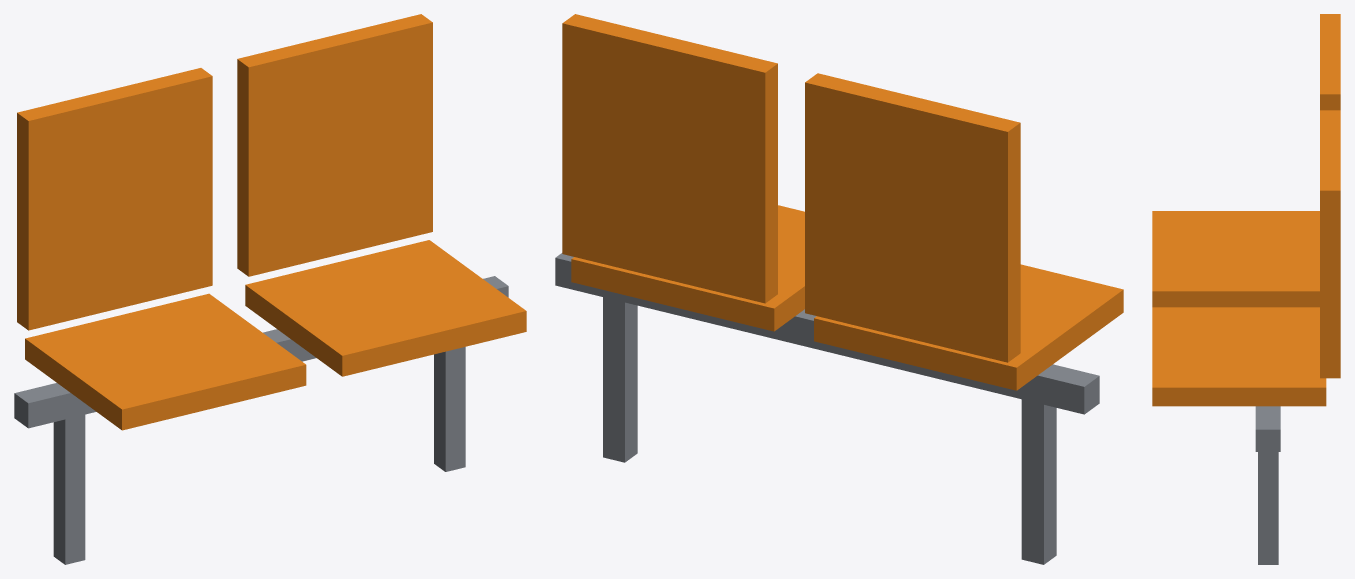
The model's file is PoolSeats.fbx.
3 renders of one model, left to right at view 1: azimuth 30°, elevation 25°; view 2: azimuth 150°, elevation 25°; view 3: azimuth 270°, elevation 25°, orthographic. The views are drawn at different scales.
Visible parts, largest first — view 1: seat_back_0, seat_back_1, seat_0, seat_1, seat_leg, seat_leg.001, seat_beam; view 2: seat_back_0, seat_back_1, seat_0, seat_1, seat_beam, seat_leg, seat_leg.001; view 3: seat_1, seat_0, seat_back_1, seat_leg.001, seat_back_0, seat_beam.
Boxes of the visible parts, bbox=[...] form: seat_back_0: bbox=[17, 68, 212, 330]; seat_back_1: bbox=[237, 14, 432, 276]; seat_0: bbox=[25, 293, 306, 430]; seat_1: bbox=[245, 240, 526, 376]; seat_leg: bbox=[53, 414, 85, 564]; seat_leg.001: bbox=[434, 347, 465, 471]; seat_beam: bbox=[14, 276, 508, 428]; seat_back_0: bbox=[805, 73, 1020, 362]; seat_back_1: bbox=[562, 14, 777, 303]; seat_0: bbox=[814, 264, 1123, 390]; seat_1: bbox=[571, 205, 804, 331]; seat_beam: bbox=[555, 253, 1099, 414]; seat_leg: bbox=[1021, 399, 1056, 564]; seat_leg.001: bbox=[603, 297, 637, 462]; seat_1: bbox=[1152, 307, 1326, 406]; seat_0: bbox=[1152, 211, 1319, 307]; seat_back_1: bbox=[1320, 110, 1340, 378]; seat_leg.001: bbox=[1258, 452, 1278, 564]; seat_back_0: bbox=[1320, 14, 1340, 110]; seat_beam: bbox=[1255, 406, 1280, 451].
Bounding box in the file's own units: 1.2 × 1 × 0.455.
